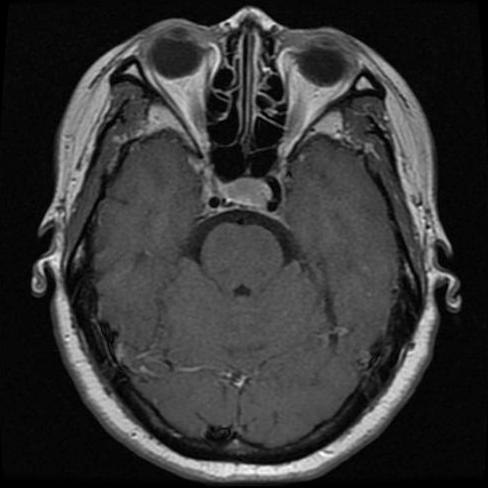Tumour-Pituitary: (195, 172, 294, 232)
